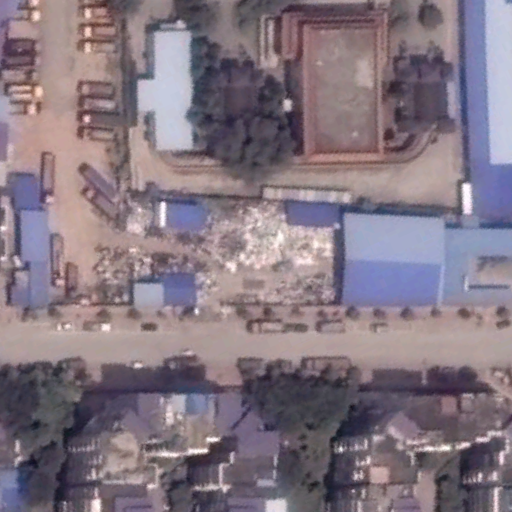msw: (204, 204, 335, 261)
